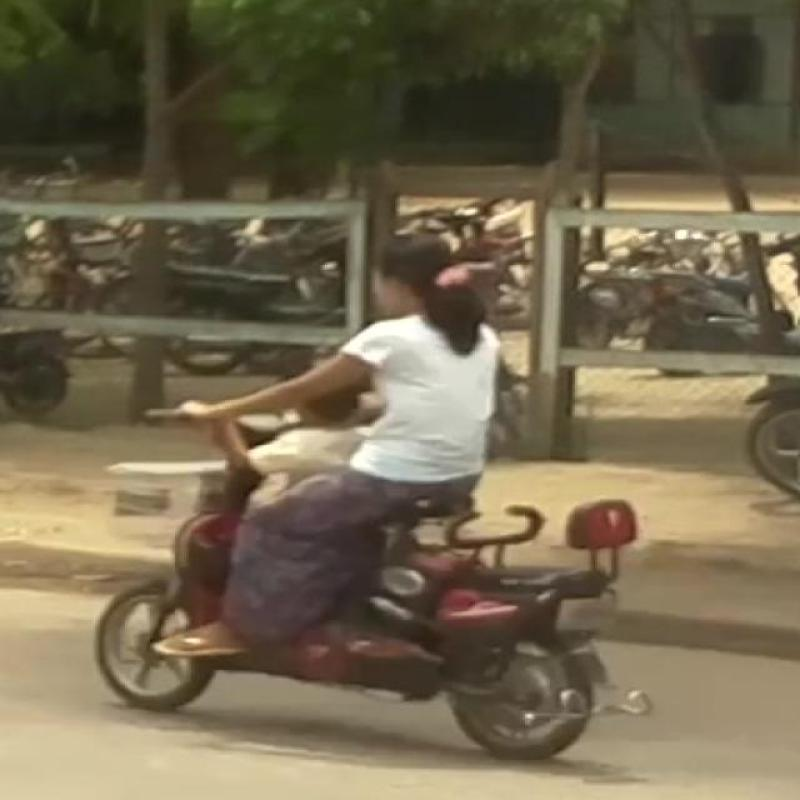nohelmet: (366, 200, 532, 318)
